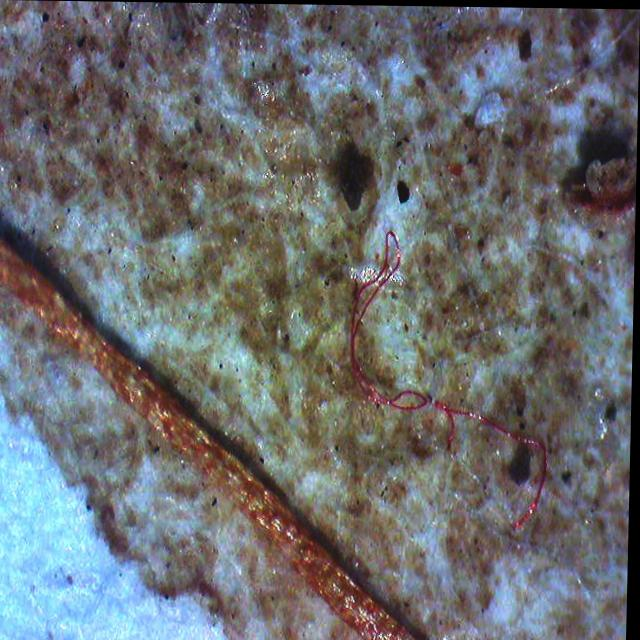microplastic: (352, 230, 549, 530)
